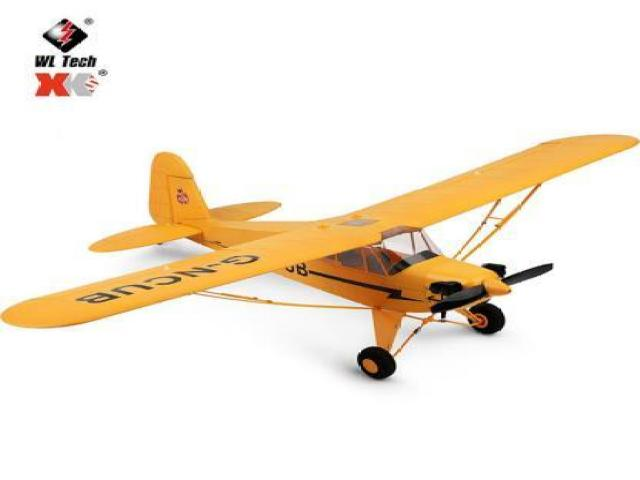uav: (0, 118, 640, 387)
